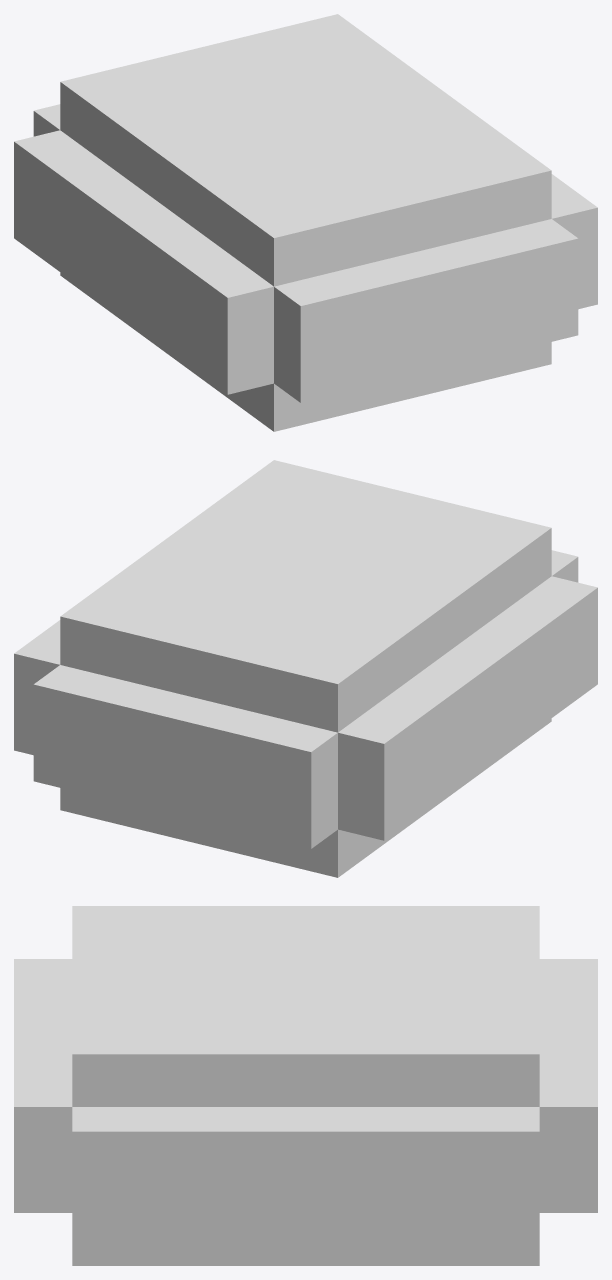
The model's file is mantow.fbx.
3 renders of one model, top to bottom at view 1: azimuth 30°, elevation 25°; view 2: azimuth 150°, elevation 25°; view 3: azimuth 270°, elevation 25°, orthographic. The views are drawn at different scales.
Parts seen in each view (by area): view 1: mantow:mantow; view 2: mantow:mantow; view 3: mantow:mantow.
Boxes of the visible parts, x1,y1,x2,y2 form: mantow:mantow: (14, 14, 597, 431); mantow:mantow: (14, 460, 597, 877); mantow:mantow: (14, 906, 597, 1265).
Bounding box in the file's own units: 8 × 4 × 10.
